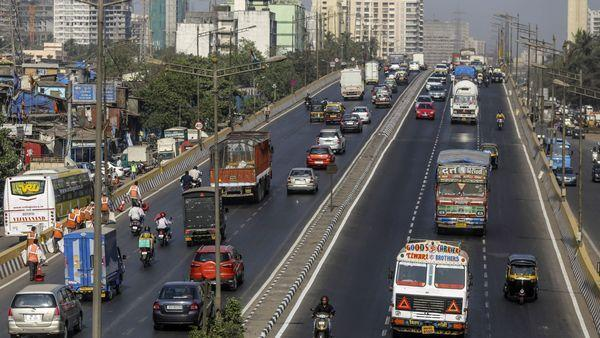car: (387, 240, 476, 338), (4, 168, 91, 239), (434, 150, 493, 237), (211, 126, 277, 203), (61, 226, 126, 303), (4, 284, 85, 338), (148, 280, 217, 331), (179, 187, 230, 244), (190, 244, 247, 292), (502, 252, 543, 302), (283, 163, 321, 196), (450, 82, 480, 123), (337, 64, 368, 98), (448, 62, 483, 91), (364, 58, 392, 88), (304, 144, 337, 168), (316, 127, 347, 151), (555, 166, 584, 191), (323, 96, 347, 126), (306, 100, 330, 126), (370, 85, 397, 108), (424, 78, 448, 102), (340, 112, 365, 134), (467, 52, 489, 76), (549, 135, 573, 157), (414, 99, 437, 121), (552, 153, 574, 171), (352, 106, 374, 123)
motocar: (307, 292, 342, 338), (136, 221, 159, 271), (154, 209, 177, 248), (126, 201, 150, 237), (494, 108, 508, 131)
person: (22, 238, 46, 281), (46, 215, 66, 251), (98, 192, 116, 224), (123, 180, 145, 205), (64, 204, 80, 234), (26, 226, 41, 245)
